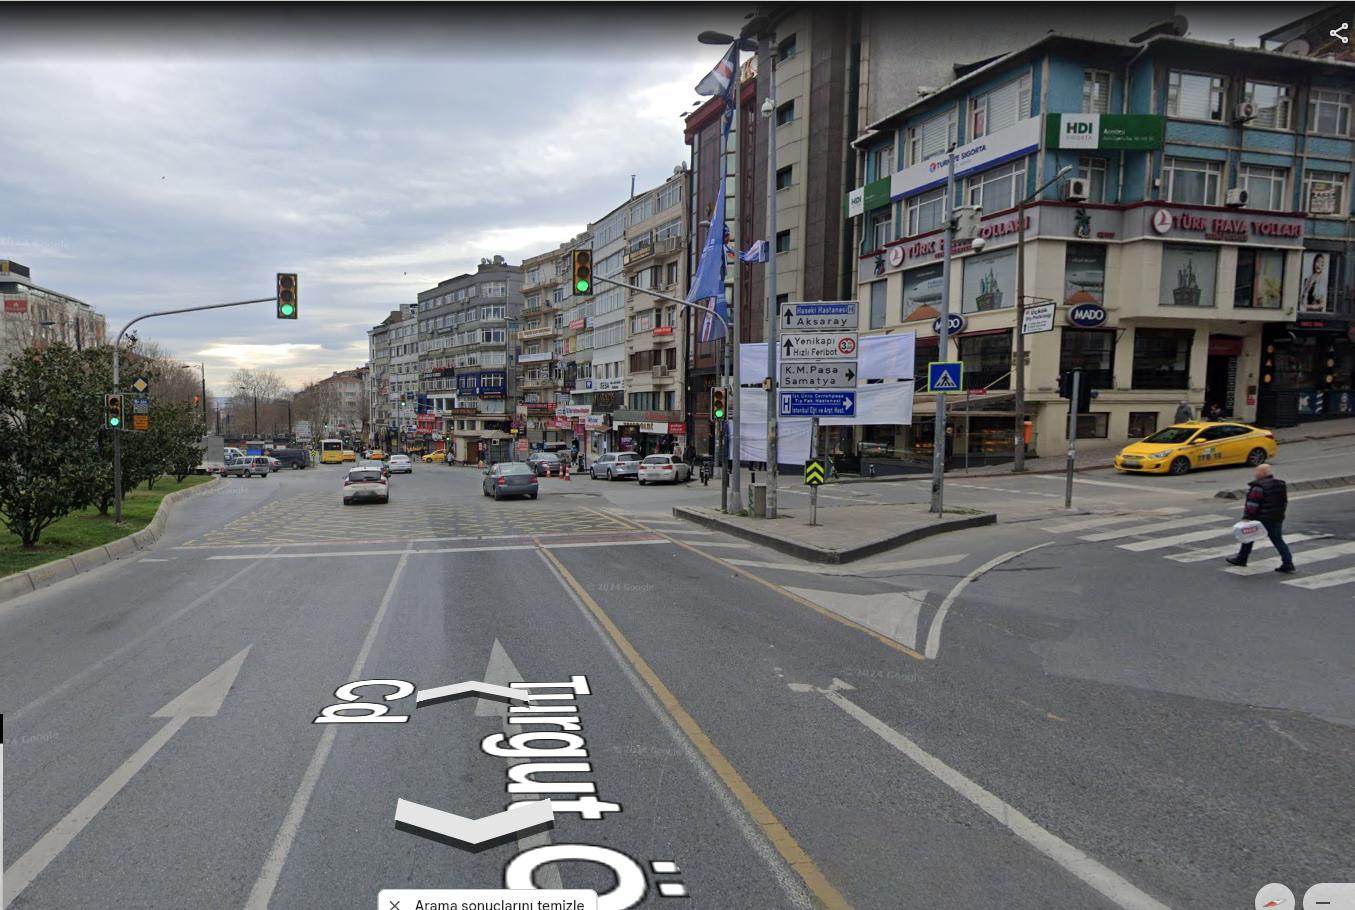greenlight: (574, 250, 591, 294), (279, 274, 295, 316), (107, 394, 120, 428), (713, 388, 726, 418)
